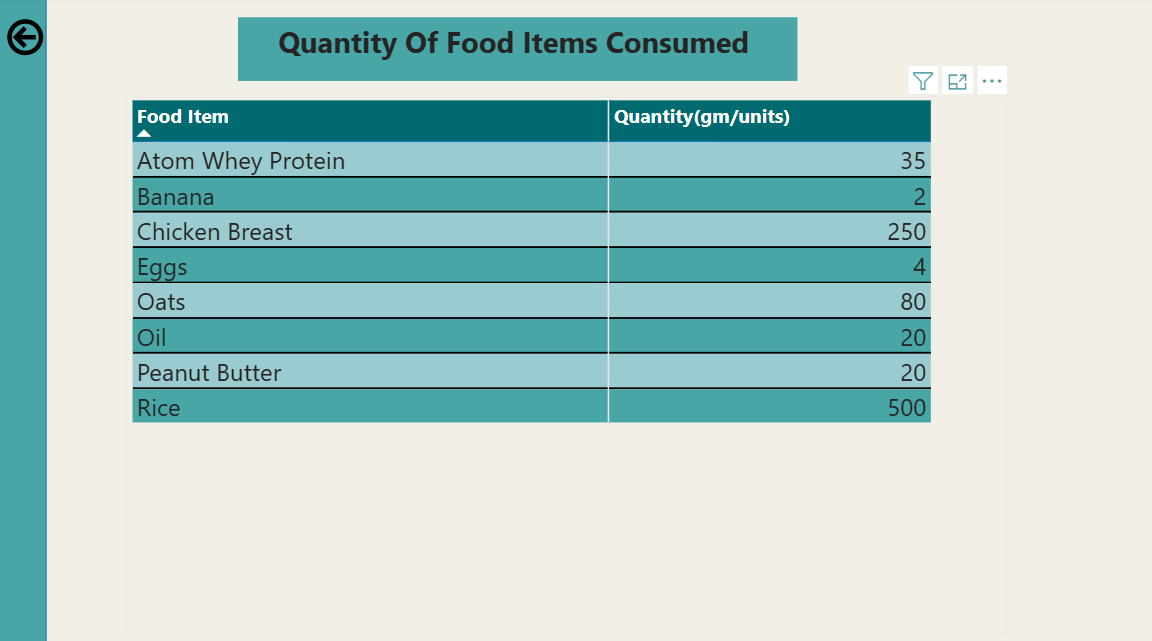

Layout of this report page (visuals, bound fields, positions):
{"tool":"powerbi","page":{"name":"Quantity_Breakdown","canvas":[1280,720],"ordinal":3},"visuals":[{"type":"tableEx","fields":{"Values":["Food_Log.Food_Item","Sum(Food_Log.Quantity)"]},"box":[142.3,110.5,974.1,594.1],"z":0},{"type":"shape","box":[0,0,53.8,720.2],"z":4000},{"type":"textbox","box":[265.7,23,618.4,70.5],"z":5000},{"type":"actionButton","box":[4.9,19.7,49.2,52.5],"z":6000}]}

Visuals, with their boxes on the page's 1280x720 design canvas (x1, y1, x2, y2). These are canvas units, not pixel positions in the 1152x641 screenshot, which may show the page scaled, cropped or inside an application window:
tableEx - Food_Log.Food_Item x Sum(Food_Log.Quantity): [left=142, top=110, right=1116, bottom=705]
shape: [left=0, top=0, right=54, bottom=720]
textbox: [left=266, top=23, right=884, bottom=94]
actionButton: [left=5, top=20, right=54, bottom=72]
